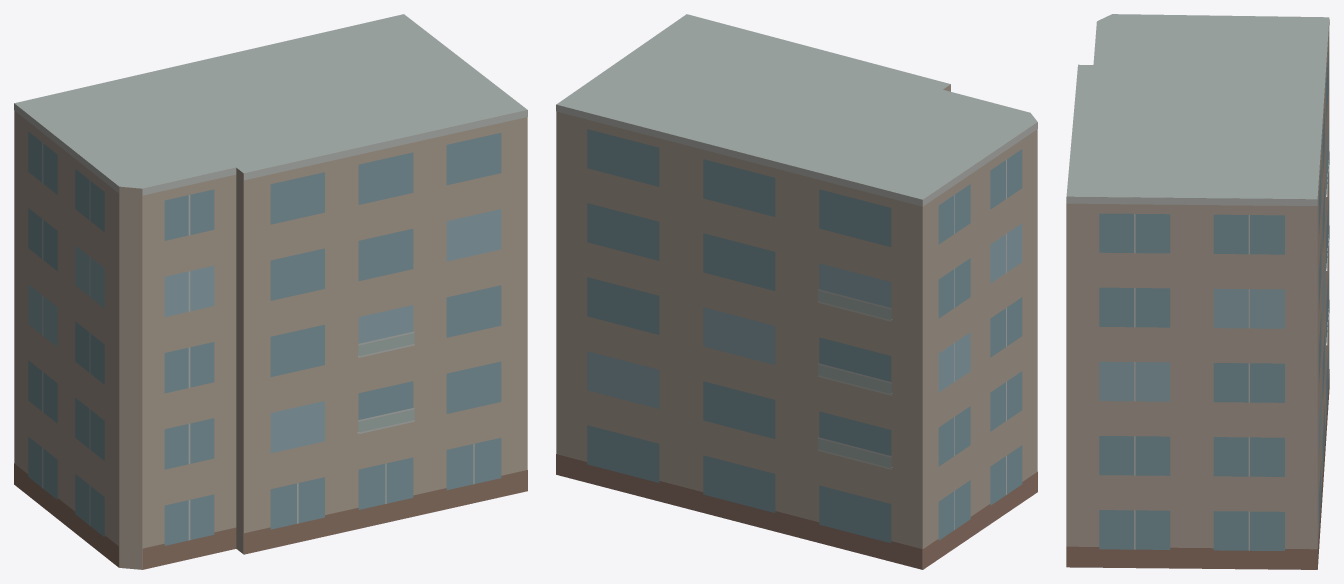
File: survey-upis-32933235.glb
3 renders of one model, left to right at view 1: azimuth 30°, elevation 25°; view 2: azimuth 150°, elevation 25°; view 3: azimuth 270°, elevation 25°, orthographic. The views are drawn at different scales.
Visible parts, largest first — view 1: survey-upis-32933235.tmp; view 2: survey-upis-32933235.tmp; view 3: survey-upis-32933235.tmp.
Boxes of the visible parts, x1,y1,x2,y2 form: survey-upis-32933235.tmp: (14,14,527,569); survey-upis-32933235.tmp: (556,14,1037,569); survey-upis-32933235.tmp: (1066,14,1329,569).
Bounding box in the file's own units: 14.05 × 13.1 × 8.44.
